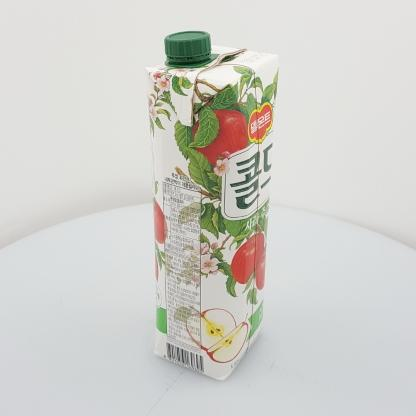------------: (145, 30, 279, 381)
